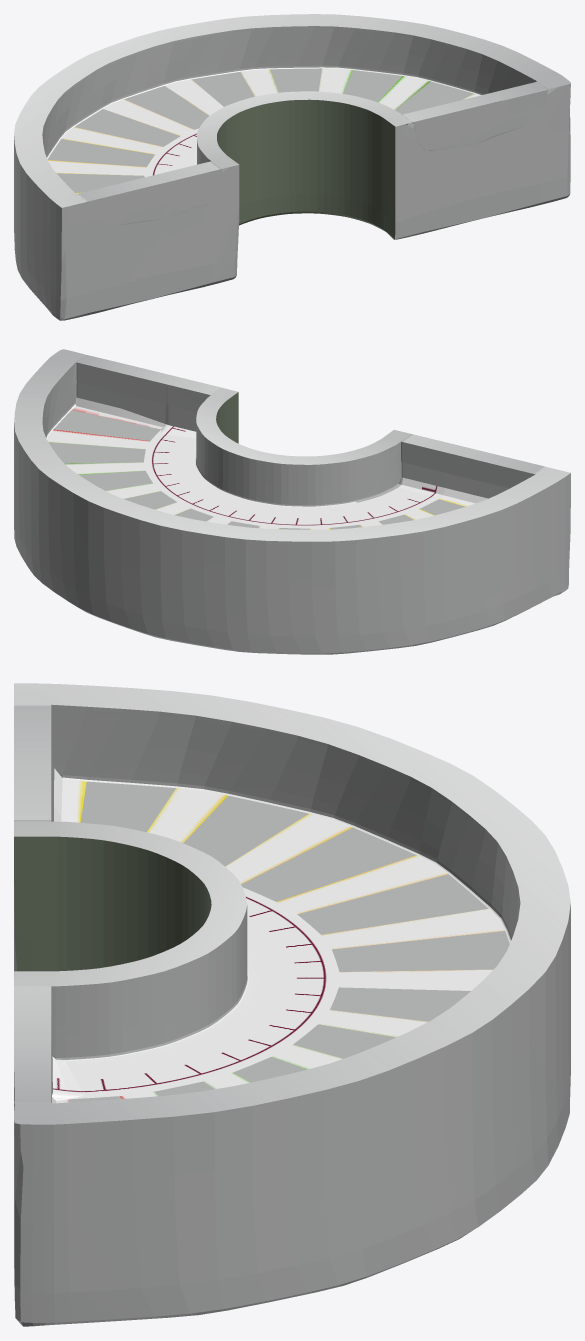
File: power bar new material.fbx
3 renders of one model, top to bottom at view 1: azimuth 30°, elevation 25°; view 2: azimuth 150°, elevation 25°; view 3: azimuth 270°, elevation 25°, orthographic. The views are drawn at different scales.
Parts seen in each view (by area): view 1: Cylinder; view 2: Cylinder; view 3: Cylinder.
Boxes of the visible parts, box(x1,y1,x2,y2) form: Cylinder: box(14, 14, 570, 320); Cylinder: box(14, 349, 570, 654); Cylinder: box(14, 683, 570, 1326).
Size of the model in its own units: 399 by 86.05 by 213.
Materials: 1 (1 with a texture image).
